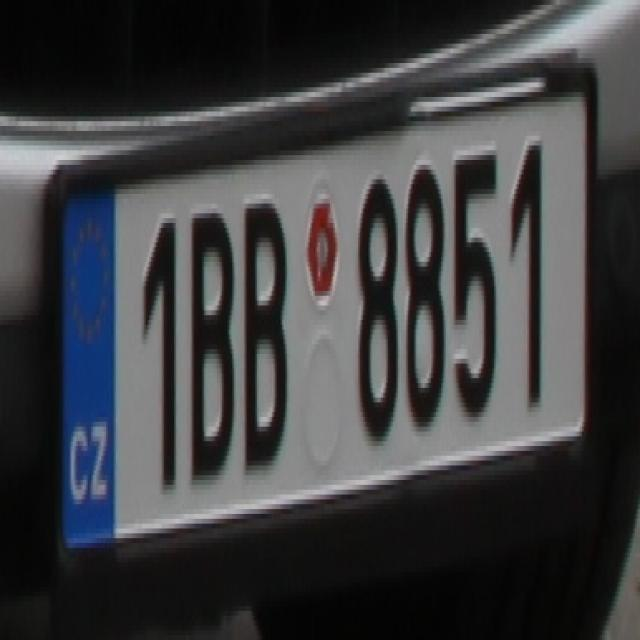1: (138, 208, 180, 490), (507, 131, 549, 402)
5: (449, 141, 499, 407)
8: (356, 175, 399, 436), (402, 155, 444, 417)
B: (240, 194, 290, 480), (186, 208, 237, 480)
